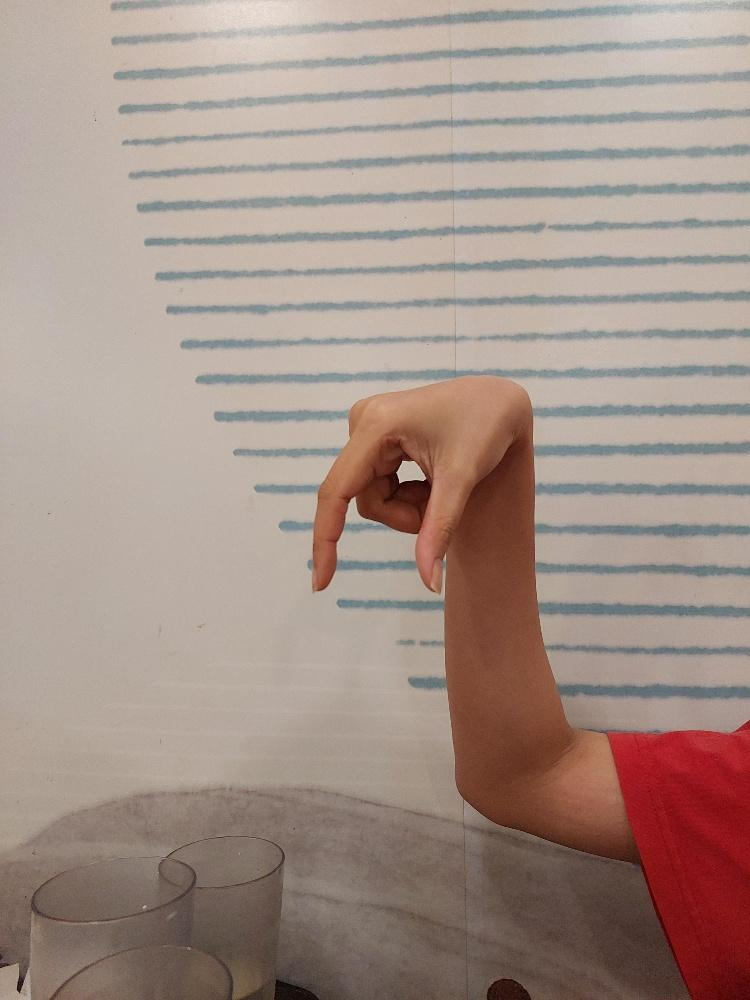q: (308, 373, 517, 593)
